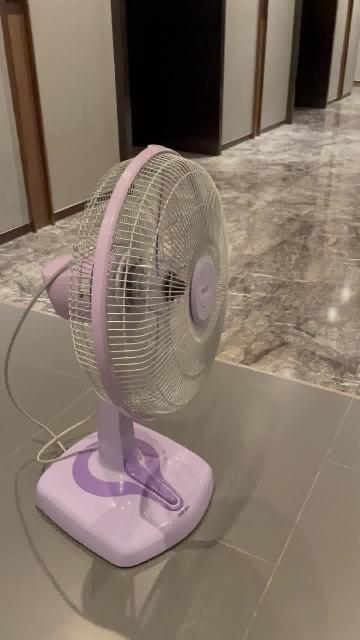Fan: (35, 144, 228, 569)
